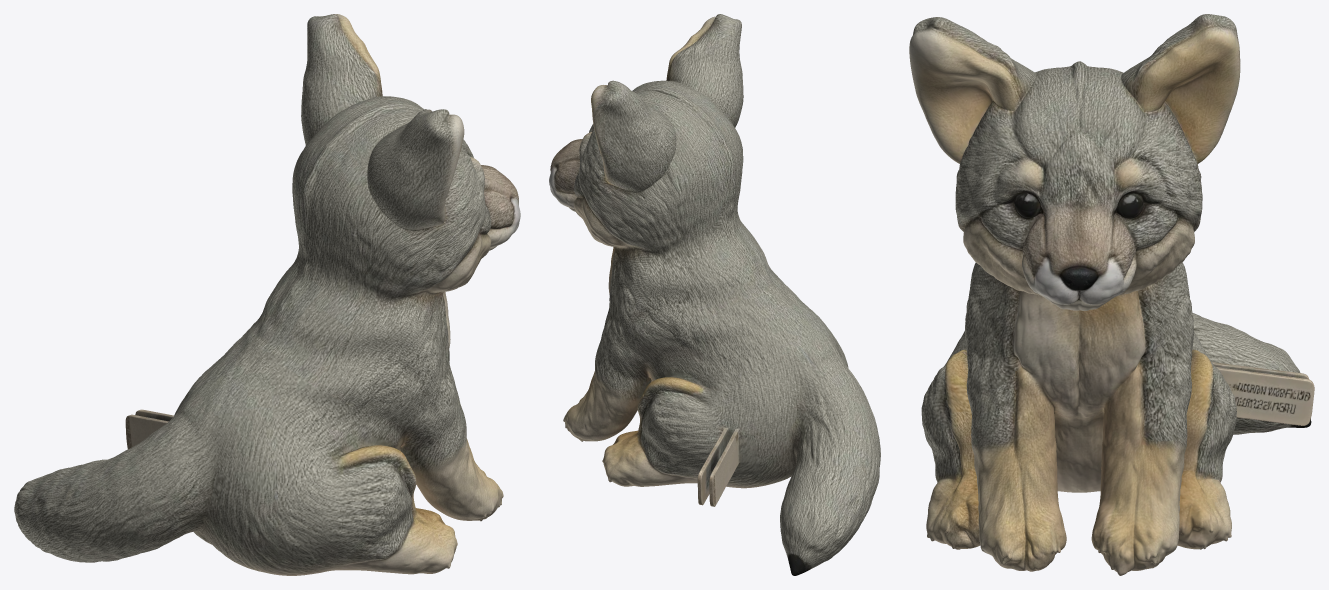
File: peluche_de_pequeño_de_zorro_costero.glb
3 renders of one model, left to right at view 1: azimuth 30°, elevation 25°; view 2: azimuth 150°, elevation 25°; view 3: azimuth 270°, elevation 25°, orthographic. The views are drawn at different scales.
Parts seen in each view (by area): view 1: tripo_node_72c524dc-61cc-4b87-a295-133f073bbb47; view 2: tripo_node_72c524dc-61cc-4b87-a295-133f073bbb47; view 3: tripo_node_72c524dc-61cc-4b87-a295-133f073bbb47.
Part boxes in pixels (<box>): tripo_node_72c524dc-61cc-4b87-a295-133f073bbb47: <box>14,14,520,575</box>; tripo_node_72c524dc-61cc-4b87-a295-133f073bbb47: <box>549,14,880,575</box>; tripo_node_72c524dc-61cc-4b87-a295-133f073bbb47: <box>909,14,1314,575</box>.
Size of the model in its own units: 29475 by 32767 by 21758.
1 material, 1 textured.
